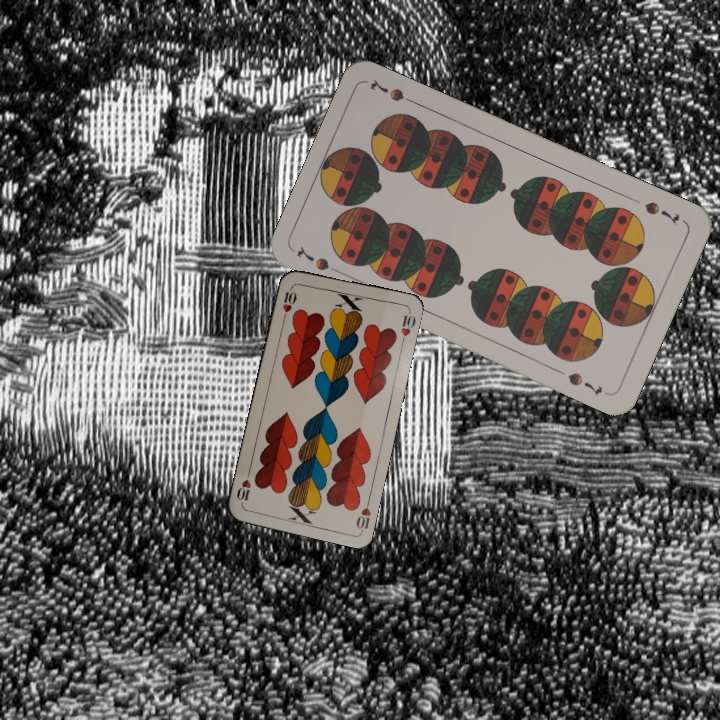H10: (278, 282, 299, 322), (352, 493, 373, 533)
S7: (293, 242, 346, 279), (640, 197, 682, 228)
